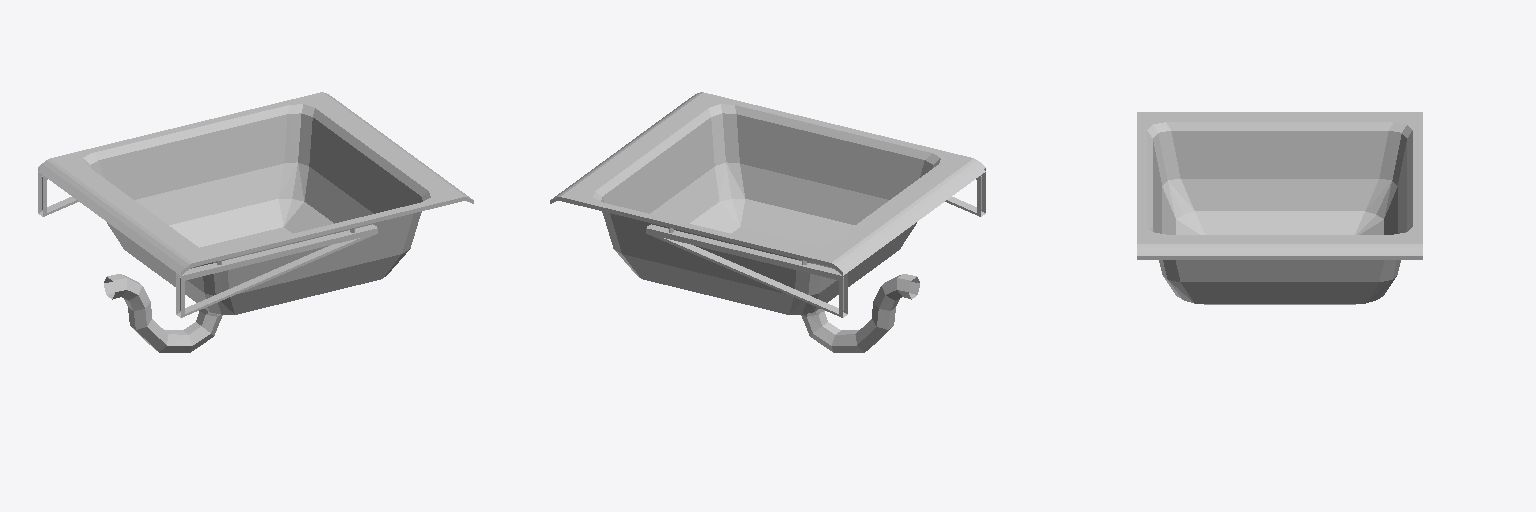
File: Sink01.obj
3 views of the same model, side by side, from view 1: azimuth 30°, elevation 25°; view 2: azimuth 150°, elevation 25°; view 3: azimuth 270°, elevation 25° (orthographic).
Parts seen in each view (by area): view 1: Sink01_Plane.009; view 2: Sink01_Plane.009; view 3: Sink01_Plane.009.
Boxes of the visible parts, x1,y1,x2,y2 form: Sink01_Plane.009: [38, 92, 473, 352]; Sink01_Plane.009: [550, 92, 985, 352]; Sink01_Plane.009: [1137, 112, 1422, 304].
Bounding box in the file's own units: 0.6816 × 0.3469 × 0.5763.